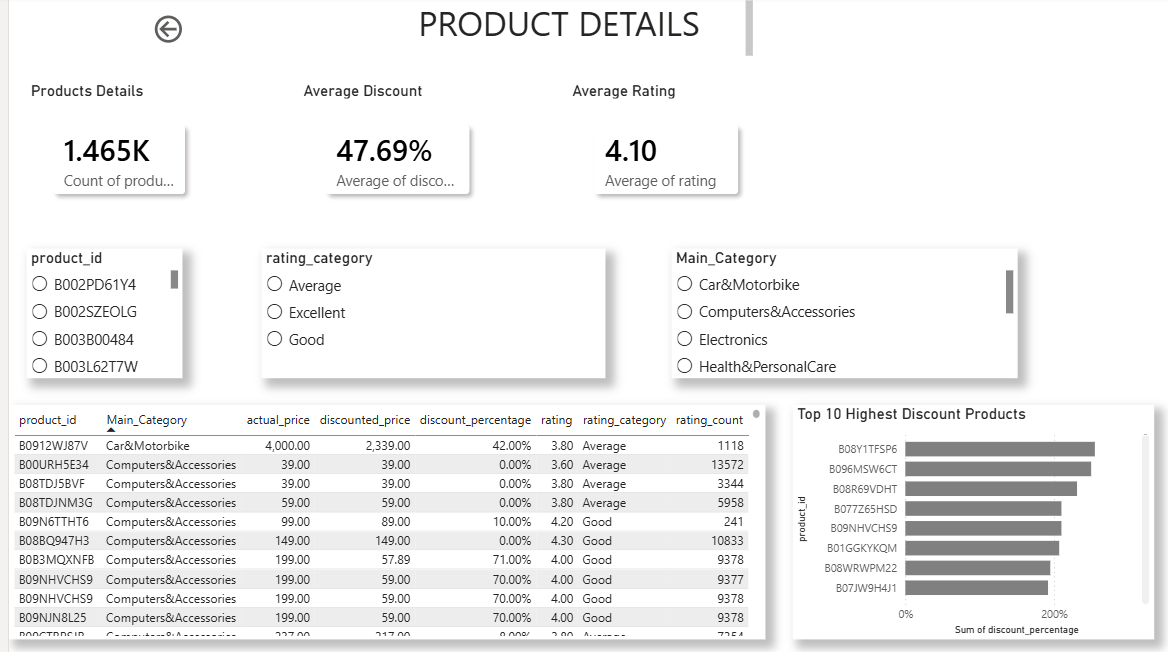

Layout of this report page (visuals, bound fields, positions):
{"tool":"powerbi","page":{"name":"Product Details","canvas":[1280,720],"ordinal":1},"visuals":[{"type":"textbox","box":[444.6,0,377.4,74.1],"z":0},{"type":"listSlicer","fields":{"Values":["amazon_clean.Main_Category"]},"box":[727.3,277.2,380.1,142.7],"z":1000},{"type":"listSlicer","fields":{"Values":["amazon_clean.rating_category"]},"box":[277.2,277.2,377.4,142.7],"z":2000},{"type":"tableEx","fields":{"Values":["amazon_clean.product_id","amazon_clean.Main_Category","amazon_clean.actual_price","amazon_clean.discounted_price","amazon_clean.discount_percentage","amazon_clean.rating","amazon_clean.rating_category","amazon_clean.rating_count"]},"box":[0,448.7,830.2,258],"z":3000},{"type":"listSlicer","fields":{"Values":["amazon_clean.product_id"]},"box":[19.2,277.2,171.5,142.7],"z":4000},{"type":"cardVisual","title":"Products Details","fields":{"Data":["CountNonNull(amazon_clean.product_id)"]},"box":[19.2,93.3,203.1,153.7],"z":5000},{"type":"cardVisual","title":"Average Rating","fields":{"Data":["Avg(amazon_clean.rating)"]},"box":[613.4,93.3,216.8,153.7],"z":6000},{"type":"cardVisual","title":"Average Discount","fields":{"Data":["Avg(amazon_clean.discount_percentage)"]},"box":[318.4,93.3,216.8,153.7],"z":7000},{"type":"clusteredBarChart","title":"Top 10 Highest Discount Products","fields":{"Category":["amazon_clean.product_id"],"Y":["Sum(amazon_clean.discount_percentage)"]},"box":[860.4,448.7,396.6,258],"z":8000},{"type":"actionButton","box":[155.1,16.5,100.2,39.8],"z":9000}]}

Visuals, with their boxes in screenshot pixels (x1, y1, x2, y2), scaled from the page's 1280x720 canvas onto the 1168x652 screenshot:
textbox: bbox(406, 0, 750, 67)
listSlicer - amazon_clean.Main_Category: bbox(664, 251, 1011, 380)
listSlicer - amazon_clean.rating_category: bbox(253, 251, 597, 380)
tableEx - amazon_clean.product_id x amazon_clean.Main_Category: bbox(0, 406, 758, 640)
listSlicer - amazon_clean.product_id: bbox(18, 251, 174, 380)
"Products Details" cardVisual: bbox(18, 84, 203, 224)
"Average Rating" cardVisual: bbox(560, 84, 758, 224)
"Average Discount" cardVisual: bbox(291, 84, 488, 224)
"Top 10 Highest Discount Products" clusteredBarChart: bbox(785, 406, 1147, 640)
actionButton: bbox(142, 15, 233, 51)
